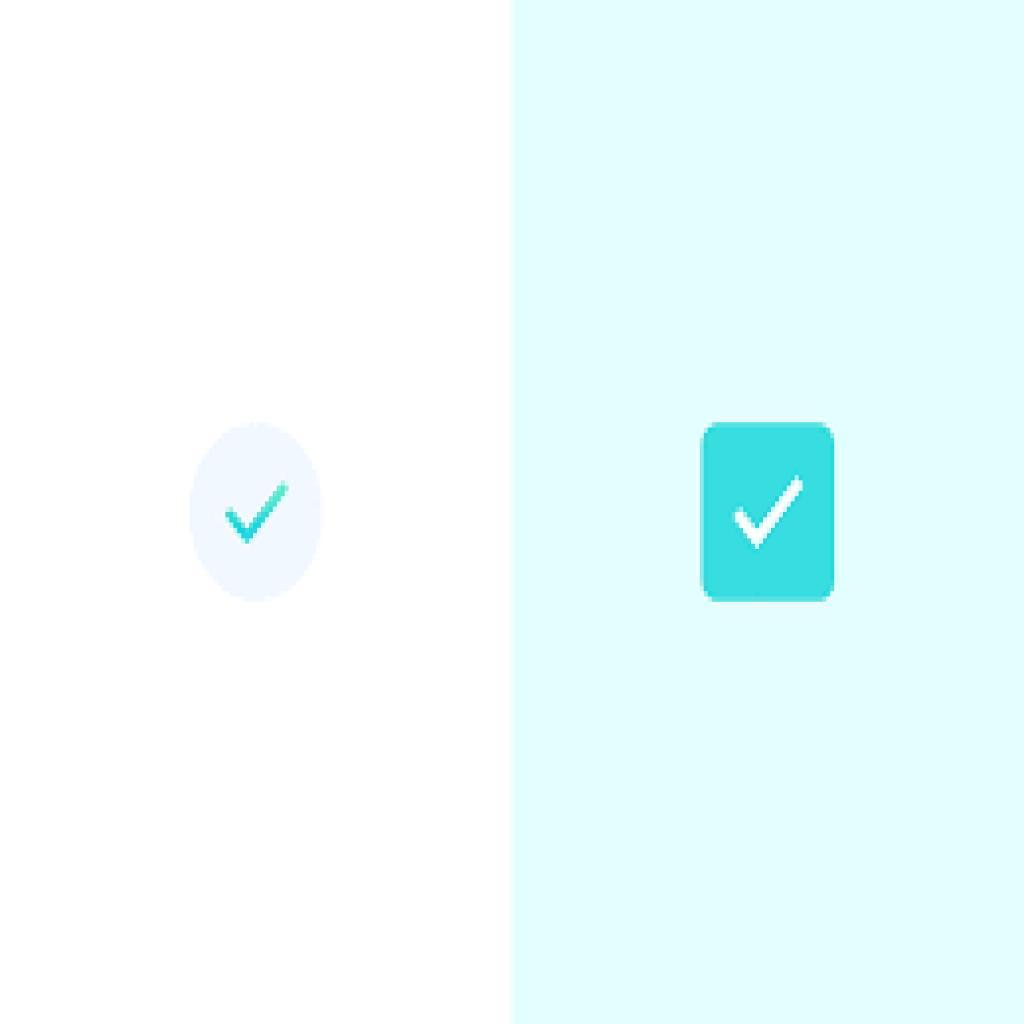checkbox: (697, 422, 840, 607), (187, 423, 323, 600)
